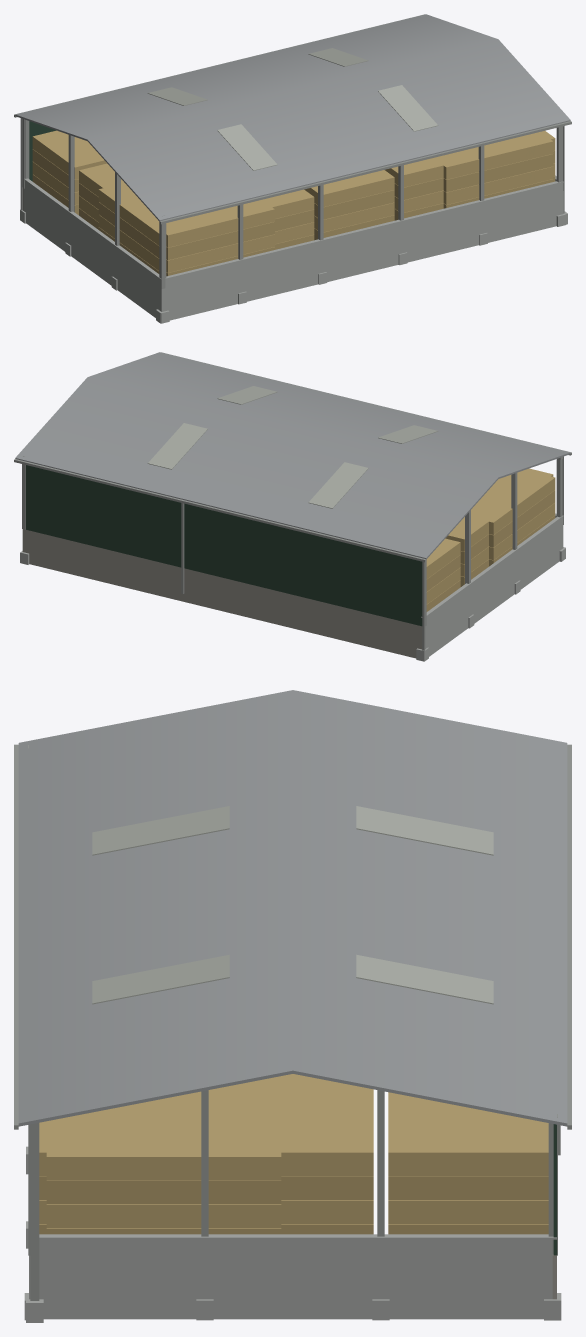
Rendered from context.farm.straw_barn.glb.
3 renders of one model, top to bottom at view 1: azimuth 30°, elevation 25°; view 2: azimuth 150°, elevation 25°; view 3: azimuth 270°, elevation 25°, orthographic. The views are drawn at different scales.
Parts seen in each view (by area): view 1: main__clad_999, main__concrete_aaa, main__fabric_ba7, main__fabric_b96, main__steel_999, main__lens_aaa, main__clad_354; view 2: main__clad_999, main__clad_354, main__concrete_999, main__concrete_aaa, main__fabric_ba7, main__steel_999, main__lens_aaa, main__fabric_b96; view 3: main__clad_999, main__fabric_ba7, main__concrete_aaa, main__fabric_b96, main__lens_aaa, main__steel_999.
Boxes of the visible parts, left/top/right/bottom form: main__clad_999: left=15, top=14, right=570, bottom=221; main__concrete_aaa: left=20, top=175, right=567, bottom=323; main__fabric_ba7: left=32, top=130, right=555, bottom=272; main__fabric_b96: left=32, top=149, right=555, bottom=276; main__steel_999: left=14, top=14, right=571, bottom=288; main__lens_aaa: left=147, top=48, right=438, bottom=170; main__clad_354: left=29, top=121, right=56, bottom=181; main__clad_999: left=15, top=352, right=570, bottom=559; main__clad_354: left=26, top=465, right=422, bottom=626; main__concrete_999: left=22, top=529, right=422, bottom=658; main__concrete_aaa: left=20, top=513, right=565, bottom=661; main__fabric_ba7: left=426, top=468, right=555, bottom=604; main__steel_999: left=14, top=352, right=571, bottom=650; main__lens_aaa: left=147, top=386, right=438, bottom=508; main__fabric_b96: left=426, top=490, right=555, bottom=611; main__clad_999: left=18, top=690, right=567, bottom=1126; main__fabric_ba7: left=39, top=1074, right=548, bottom=1228; main__concrete_aaa: left=24, top=1146, right=561, bottom=1322; main__fabric_b96: left=39, top=1176, right=548, bottom=1234; main__lens_aaa: left=92, top=806, right=493, bottom=1004; main__steel_999: left=14, top=744, right=571, bottom=1300.
Size of the model in its own units: 30.7 by 9.52 by 19.02.
